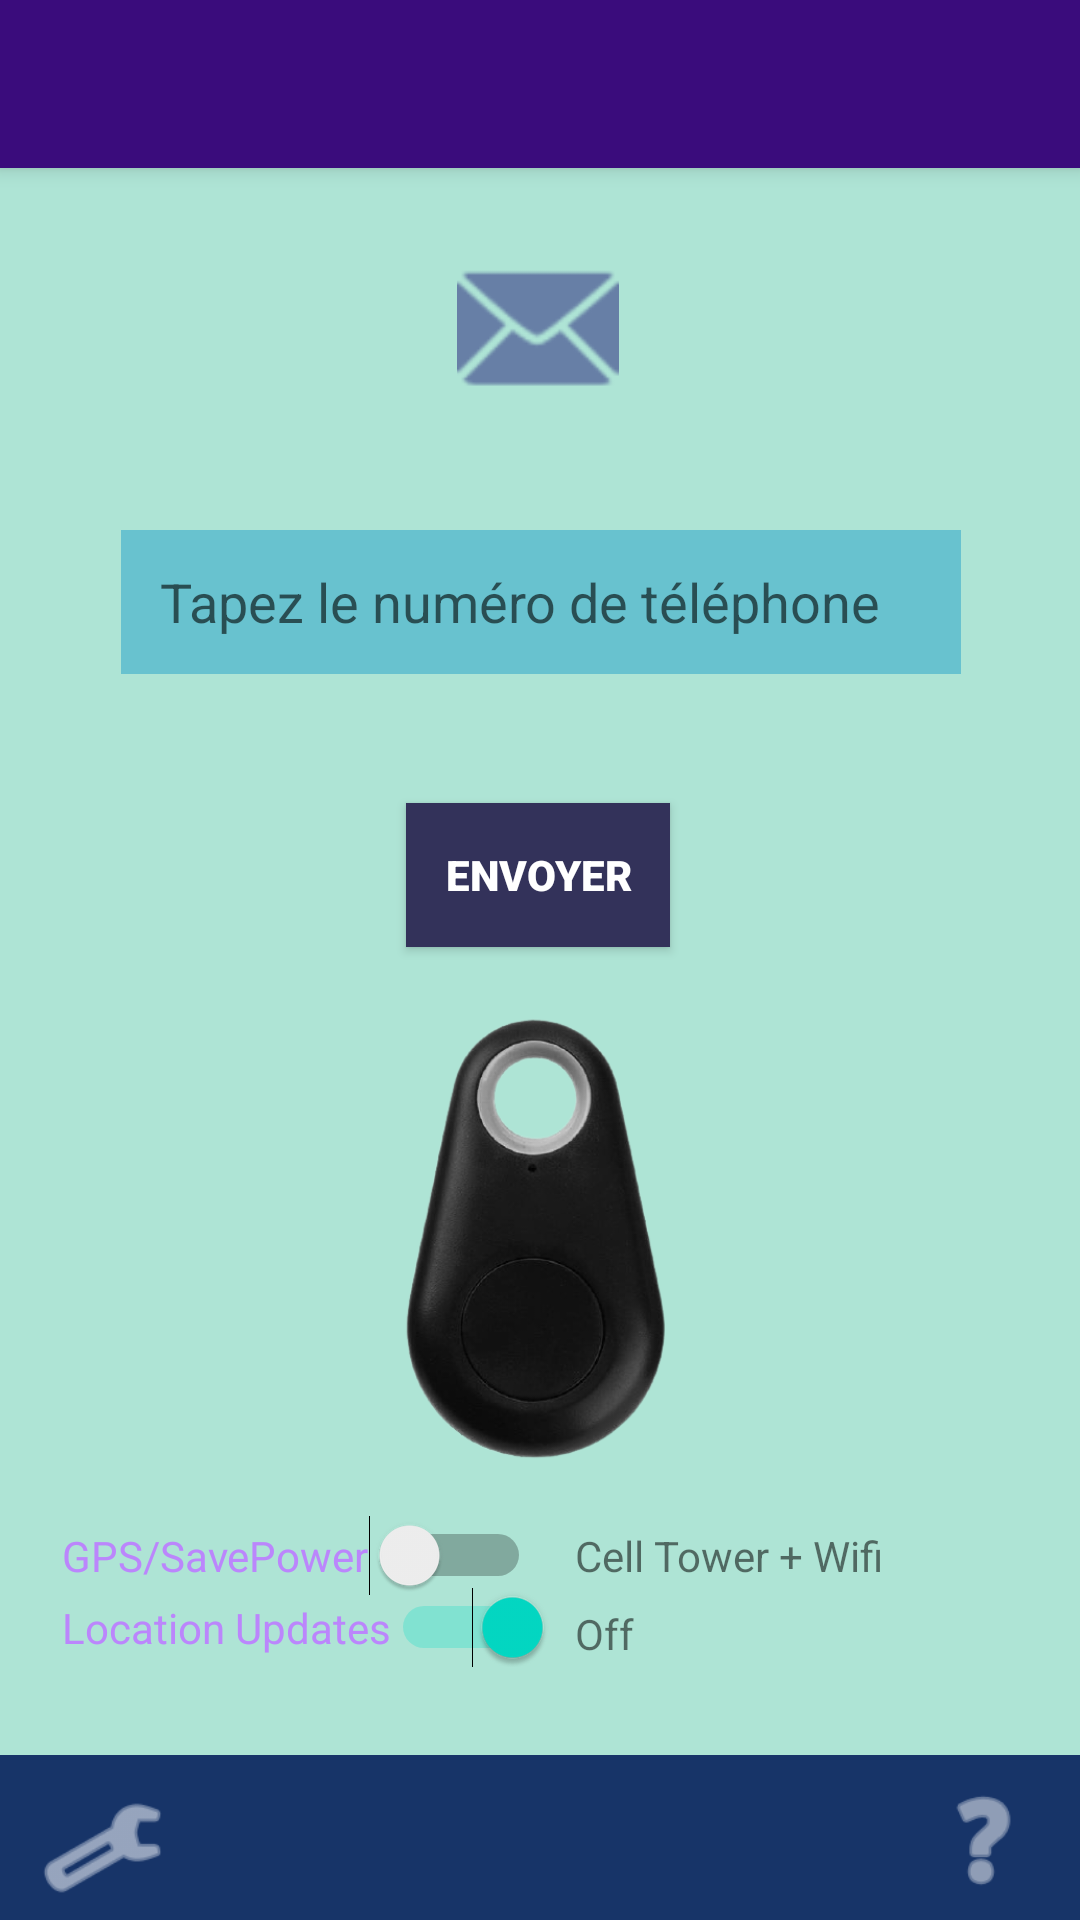

Screen size 1080w x 1920h. Icon name, then its box in pixels as box=[x1, y1, x2, y2]:
email: box=[457, 272, 619, 386]
help: box=[957, 1796, 1011, 1885]
manage: box=[44, 1804, 161, 1892]
